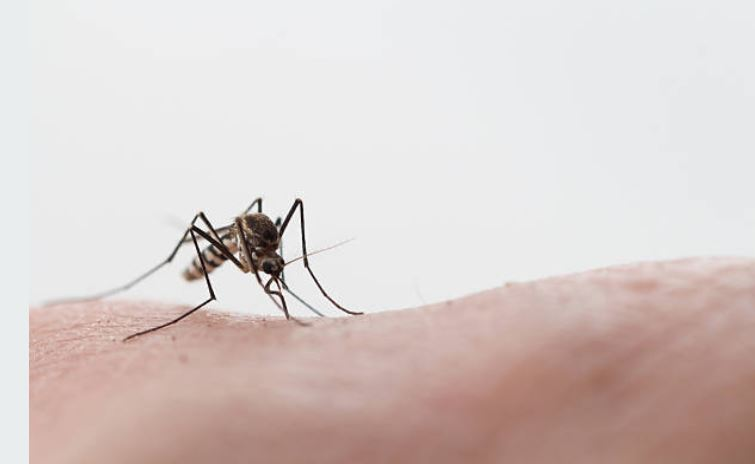dengue_mosquito: (124, 198, 366, 344)
